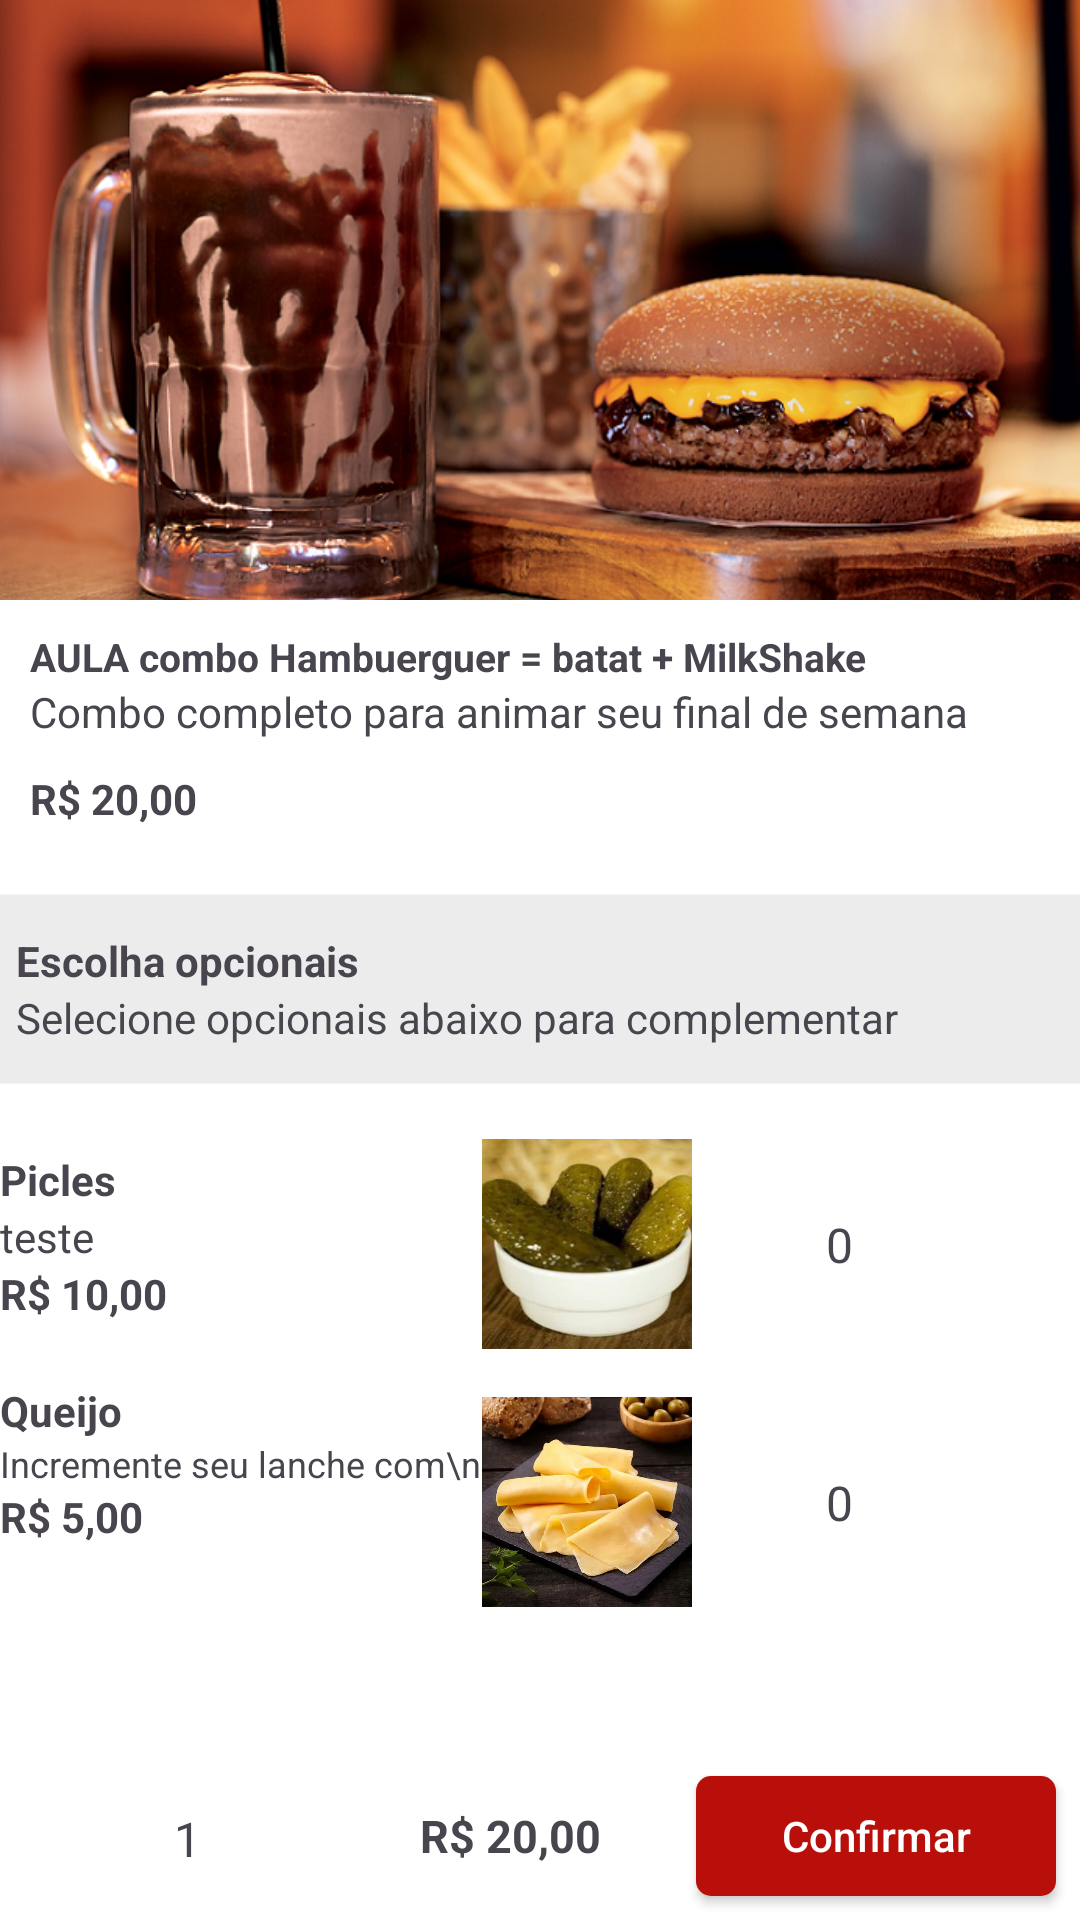

Screen size 1080*1920. Icon name, then its box in pixels as box(x1, y1, x2, y2):
cheese: box(482, 1397, 692, 1607)
picles: box(482, 1139, 692, 1349)
